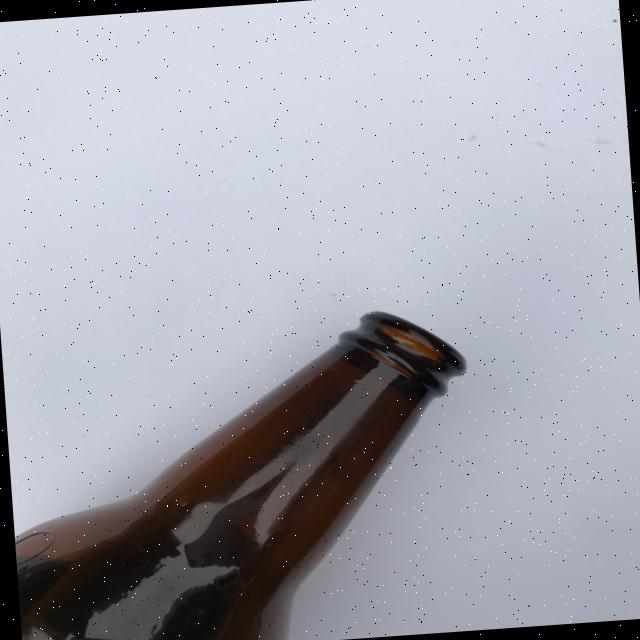glass: (0, 303, 485, 640)
